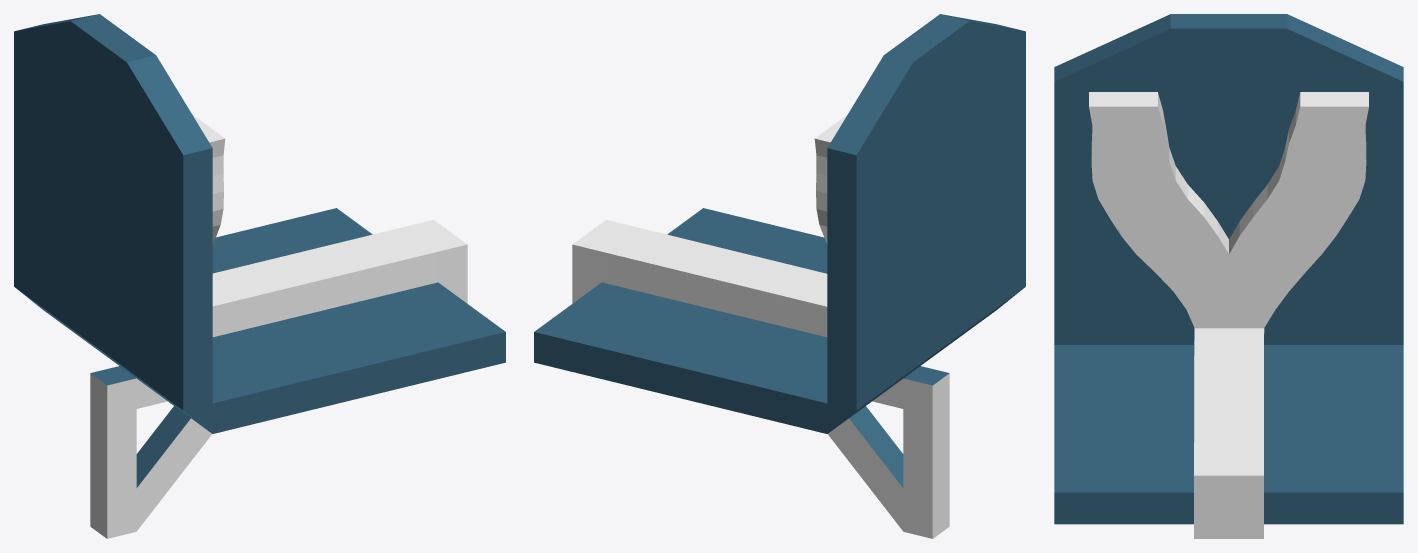
The model's file is chair-lobby.glb.
3 views of the same model, side by side, from view 1: azimuth 30°, elevation 25°; view 2: azimuth 150°, elevation 25°; view 3: azimuth 270°, elevation 25° (orthographic). The views are drawn at different scales.
Parts seen in each view (by area): view 1: Cube.001; view 2: Cube.001; view 3: Cube.001.
Part boxes in pixels (x1=…): Cube.001: x1=14, y1=14, x2=505, y2=538; Cube.001: x1=534, y1=14, x2=1025, y2=538; Cube.001: x1=1054, y1=14, x2=1403, y2=538.
Size of the model in its own units: 2.4 by 3.2 by 2.
Materials: 1 (1 with a texture image).
